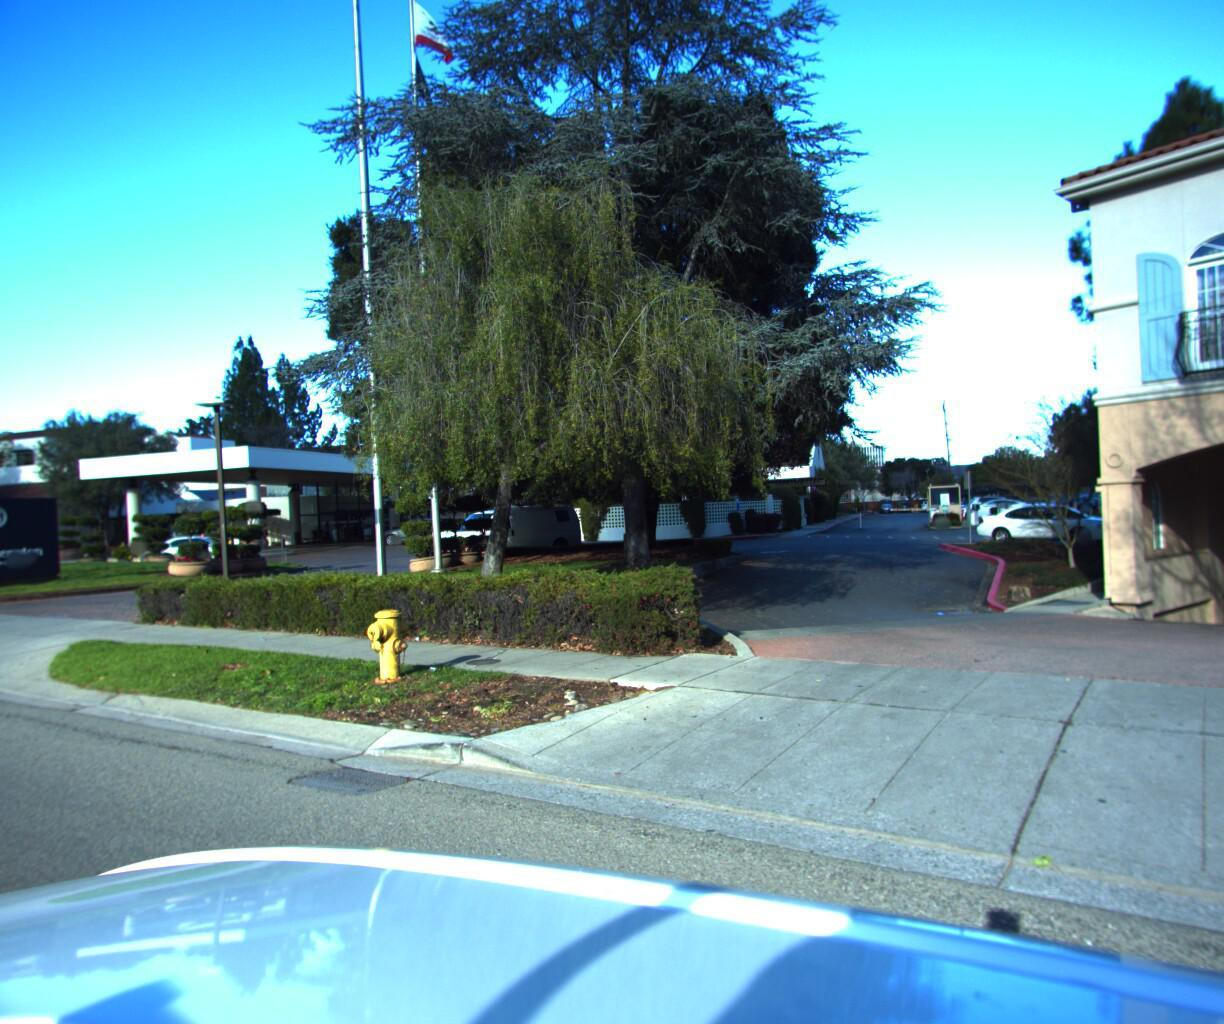car: (428, 484, 595, 562), (963, 488, 1138, 537), (134, 523, 270, 567), (376, 509, 460, 539)
